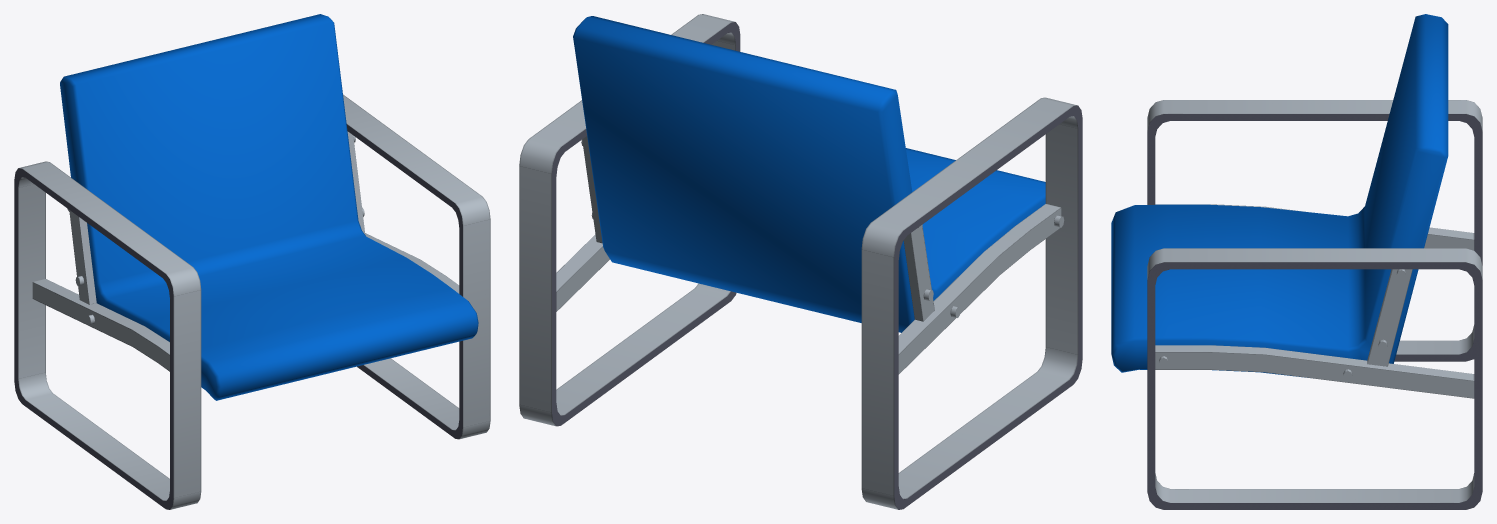
The model's file is Chair_07.FBX.
3 renders of one model, left to right at view 1: azimuth 30°, elevation 25°; view 2: azimuth 150°, elevation 25°; view 3: azimuth 270°, elevation 25°, orthographic. The views are drawn at different scales.
Visible parts, largest first — view 1: Chair_07; view 2: Chair_07; view 3: Chair_07.
Boxes of the visible parts, x1=… form: Chair_07: x1=14, y1=14, x2=490, y2=509; Chair_07: x1=519, y1=14, x2=1082, y2=509; Chair_07: x1=1111, y1=14, x2=1482, y2=509.
Bounding box in the file's own units: 1.24 × 1.24 × 1.2.
Materials: 2 (2 with a texture image).
